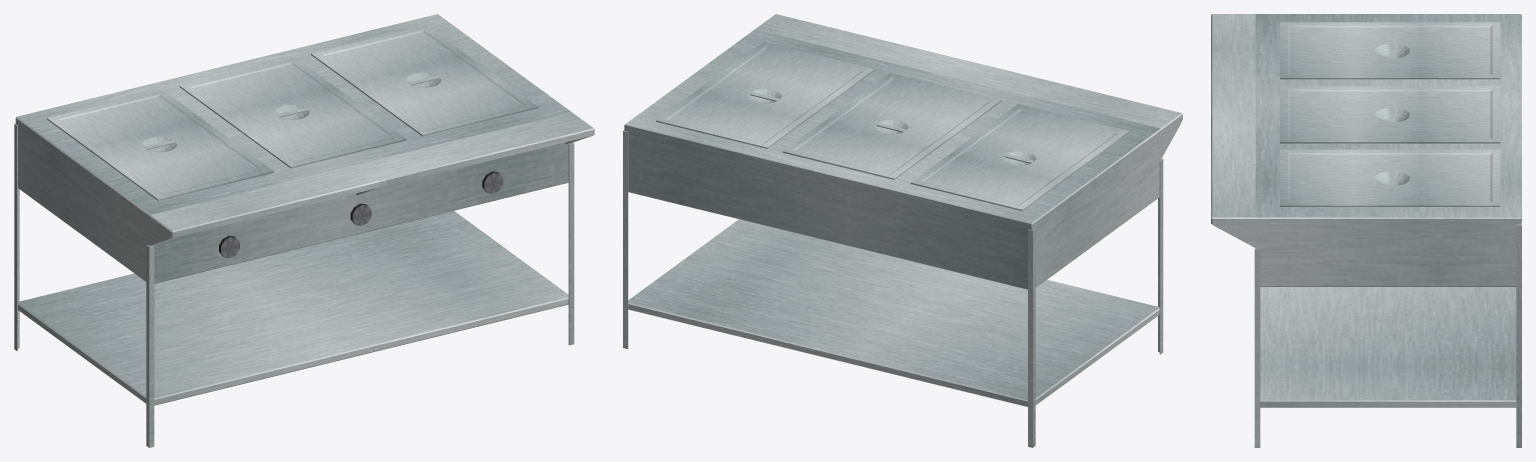
The model's file is Steamtable.gltf.
3 views of the same model, side by side, from view 1: azimuth 30°, elevation 25°; view 2: azimuth 150°, elevation 25°; view 3: azimuth 270°, elevation 25° (orthographic). The views are drawn at different scales.
Parts seen in each view (by area): view 1: Steam_table, steamer_lid3, steamer_lid1, steamer_lid2; view 2: Steam_table, steamer_lid1, steamer_lid2, steamer_lid3; view 3: Steam_table, steamer_lid2, steamer_lid1, steamer_lid3.
Boxes of the visible parts, bbox=[...] form: Steam_table: bbox=[14, 14, 594, 447]; steamer_lid3: bbox=[311, 25, 538, 136]; steamer_lid1: bbox=[47, 90, 273, 200]; steamer_lid2: bbox=[179, 57, 406, 168]; Steam_table: bbox=[623, 14, 1182, 447]; steamer_lid1: bbox=[910, 104, 1129, 210]; steamer_lid2: bbox=[782, 73, 1001, 179]; steamer_lid3: bbox=[656, 42, 874, 148]; Steam_table: bbox=[1211, 14, 1521, 447]; steamer_lid2: bbox=[1280, 86, 1500, 143]; steamer_lid1: bbox=[1280, 22, 1500, 79]; steamer_lid3: bbox=[1280, 149, 1500, 206].
Bounding box in the file's own units: 2.1 × 1.1 × 1.34.
Materials: 2 (2 with a texture image).
